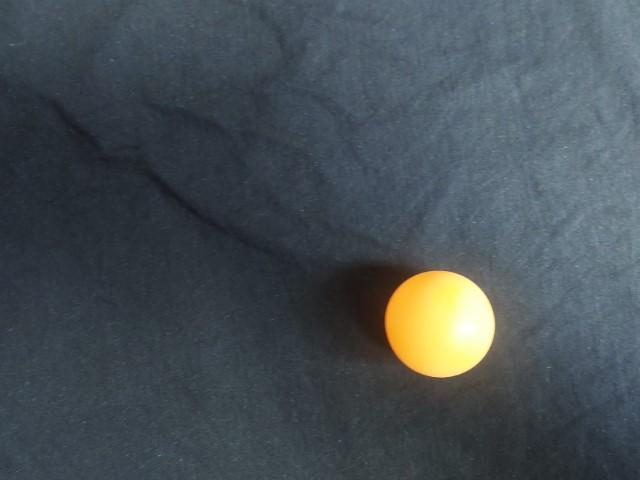oball: (136, 96, 260, 217)
